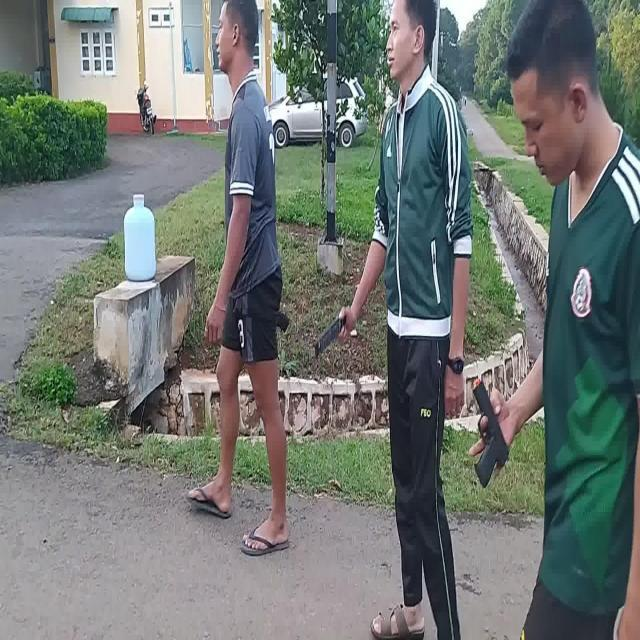gun: (474, 384, 509, 486), (276, 309, 290, 335)
